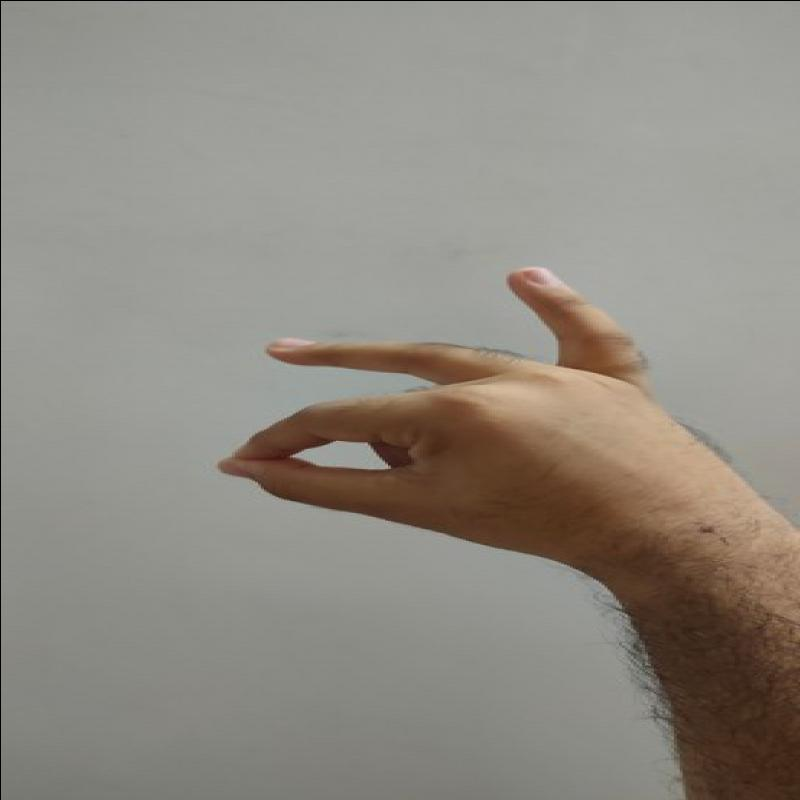Katakam: (186, 230, 757, 565)
